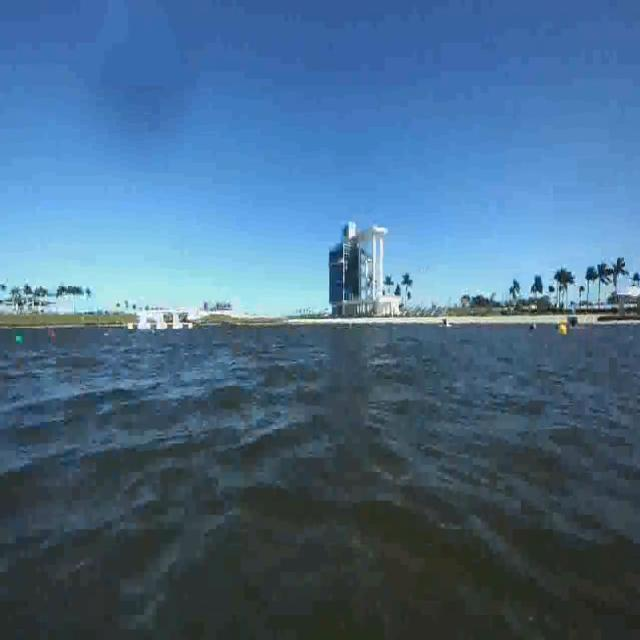green-buoy: (14, 336, 24, 346)
yellow-buoy: (560, 322, 568, 337)
